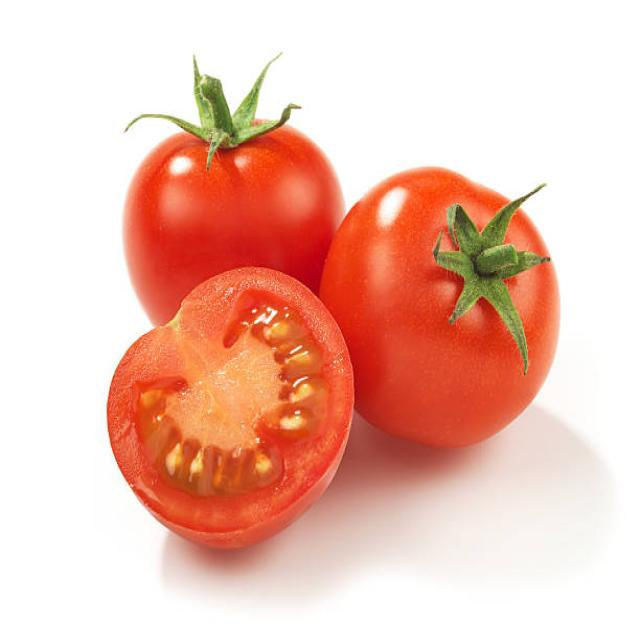Tomato: (330, 140, 574, 462), (97, 270, 354, 551)
